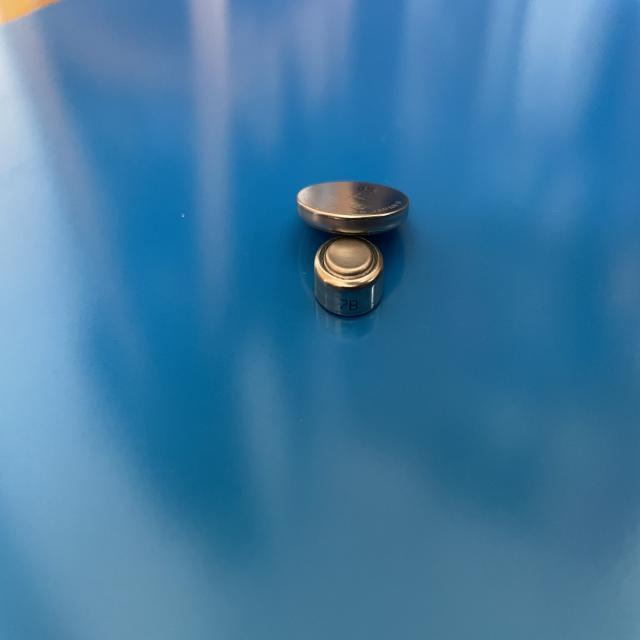COIN: (294, 176, 412, 237), (312, 234, 387, 320)
